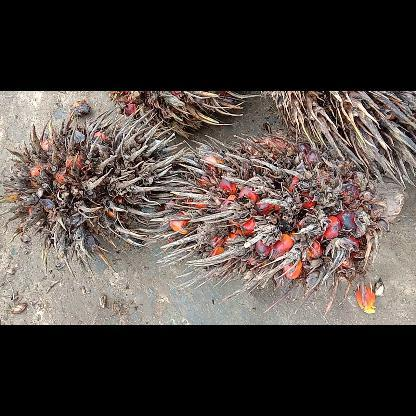Terlalu masak: (146, 127, 406, 318), (0, 103, 197, 284)
